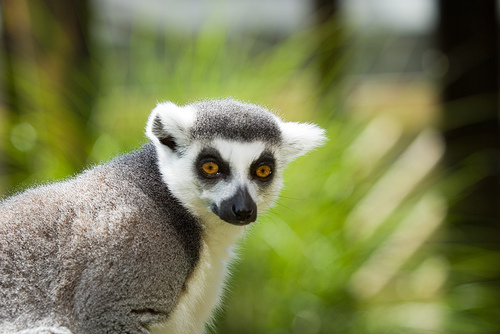cat: (0, 98, 329, 333)
